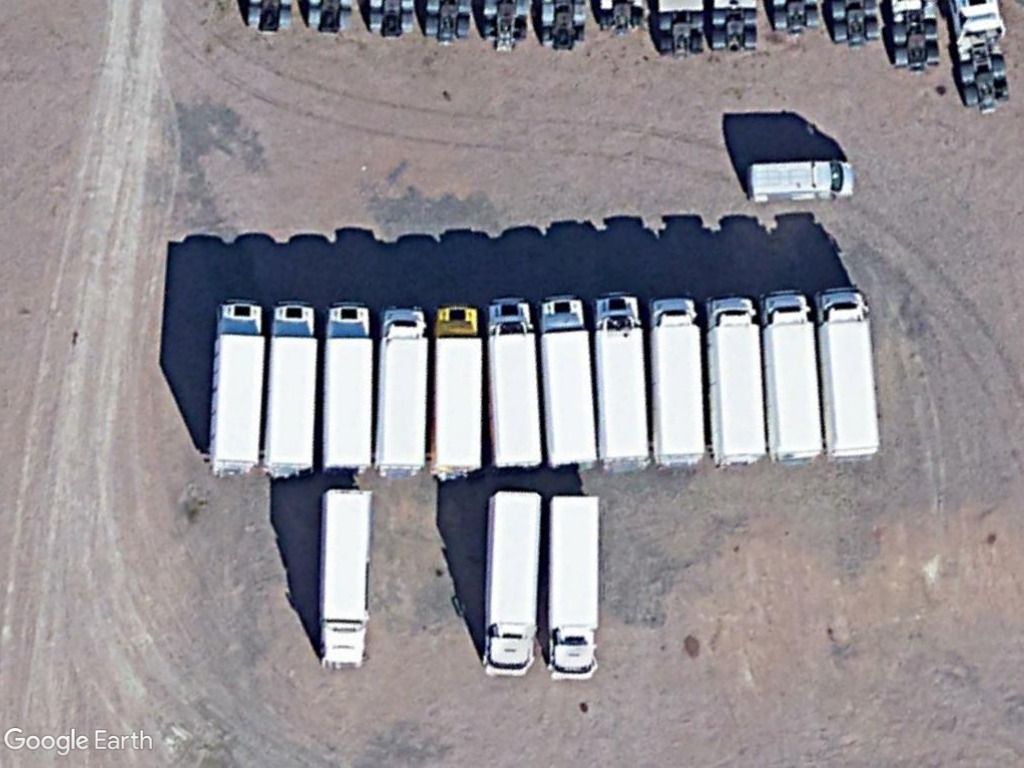truck: (477, 479, 547, 679), (811, 281, 882, 464), (314, 480, 380, 675), (541, 486, 604, 684), (759, 284, 826, 466), (639, 290, 707, 467), (368, 300, 433, 481), (702, 289, 767, 470), (312, 297, 378, 475), (259, 296, 322, 482), (205, 294, 266, 483), (423, 299, 486, 482), (479, 293, 544, 469), (537, 292, 599, 473), (589, 287, 649, 473)
van: (743, 155, 860, 207)
